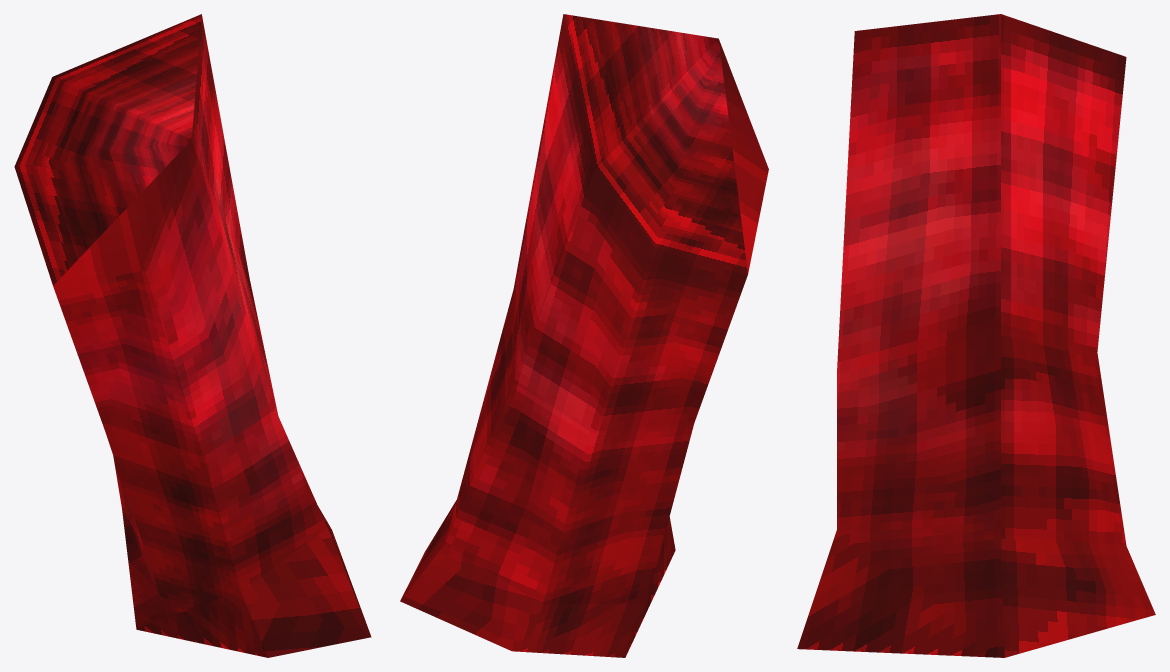
The model's file is bro_upper_arm.glb.
The picture shows the model from 3 angles, left to right: view 1: azimuth 30°, elevation 25°; view 2: azimuth 150°, elevation 25°; view 3: azimuth 270°, elevation 25°; orthographic projection. The views are drawn at different scales.
Parts seen in each view (by area): view 1: Bro.004; view 2: Bro.004; view 3: Bro.004.
Boxes of the visible parts, bbox=[...] form: Bro.004: bbox=[14, 14, 371, 657]; Bro.004: bbox=[400, 14, 768, 657]; Bro.004: bbox=[797, 14, 1155, 657].
Bounding box in the file's own units: 0.3398 × 0.6627 × 0.3408.
Materials: 1 (1 with a texture image).
